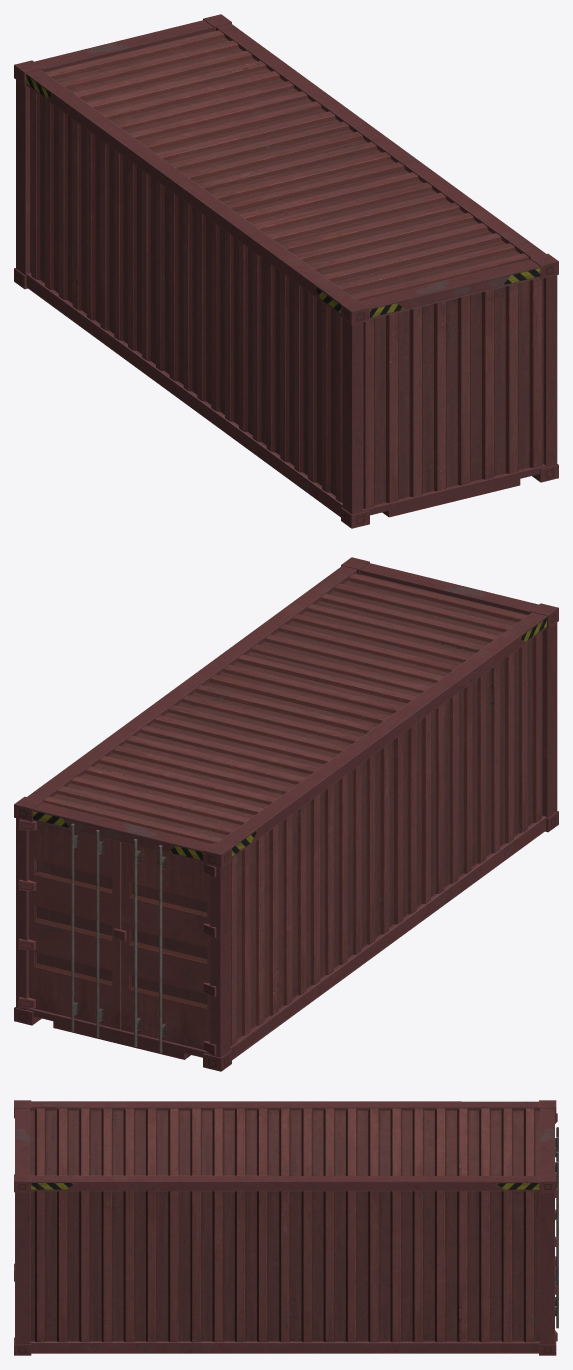
Rendered from Cargo_Box.glb.
The picture shows the model from 3 angles, top to bottom: view 1: azimuth 30°, elevation 25°; view 2: azimuth 150°, elevation 25°; view 3: azimuth 270°, elevation 25°; orthographic projection. The views are drawn at different scales.
Parts seen in each view (by area): view 1: Cargo_Box__LOD3; view 2: Cargo_Box__LOD3; view 3: Cargo_Box__LOD3.
Part boxes in pixels (box(x1,y1,x2,y2)): Cargo_Box__LOD3: box(14, 14, 558, 528); Cargo_Box__LOD3: box(14, 557, 558, 1071); Cargo_Box__LOD3: box(14, 1100, 558, 1355).
Size of the model in its own units: 2.18 by 2.18 by 6.2.
Materials: 1 (1 with a texture image).
